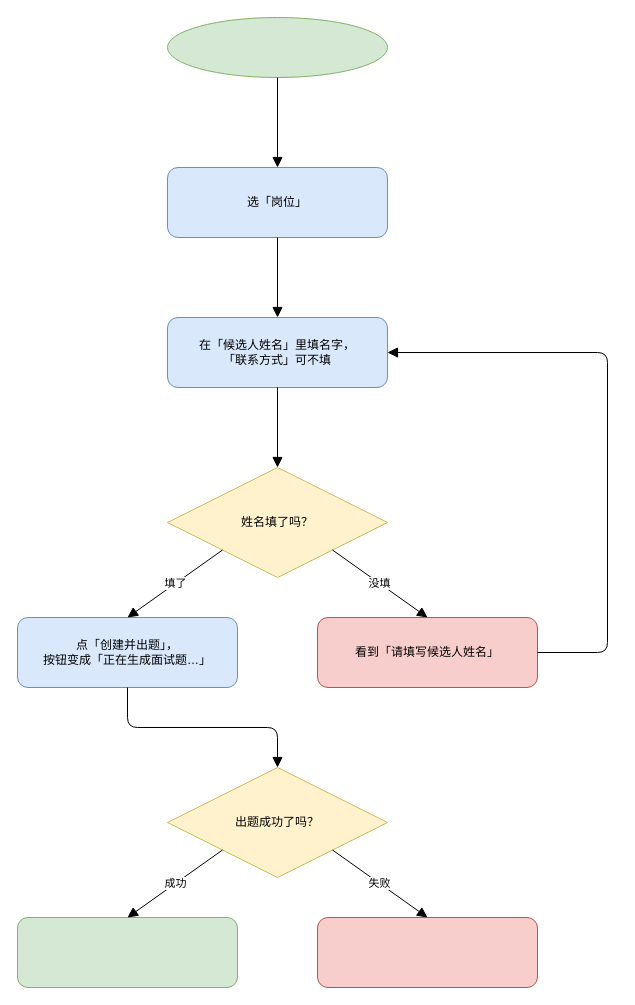
Image size: 635x1005. Some labels were removed from this diagram. The centre of each missing label's shape, as x and y in pixels:
在「面试」页点右上角 「创建面试」: (277,47)
看到「AI 服务调用失败，请稍后重试」， 关掉重来即可（不会留下半场面试）: (427,952)
看到「已生成 8 道题」， 直接进入这场面试的详情页: (127,952)
